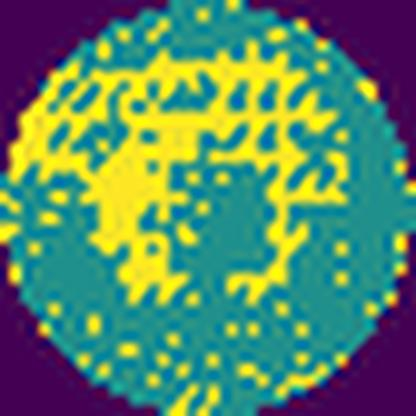Donut: (90, 53, 350, 309)
